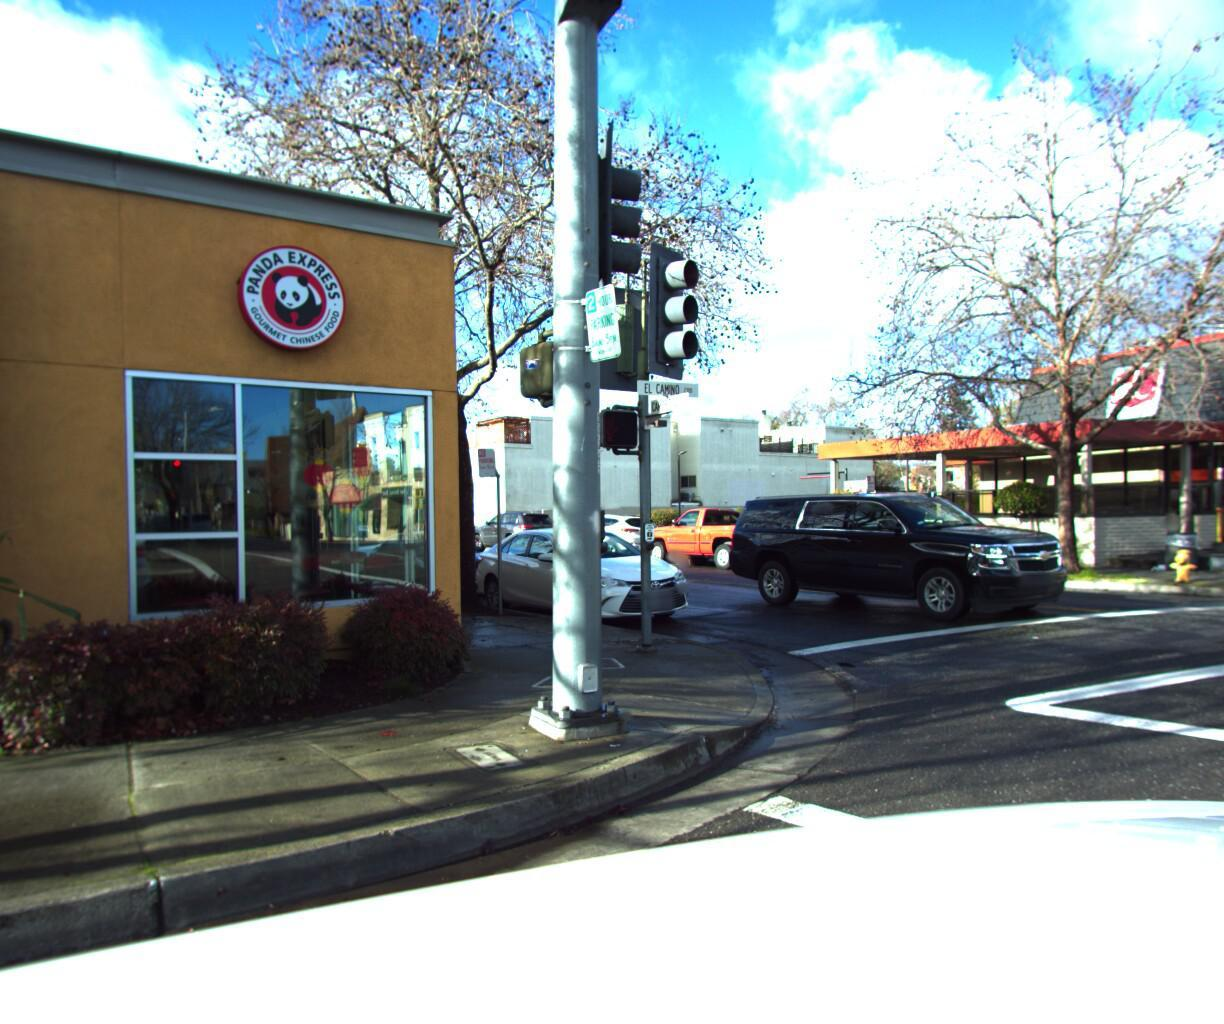car: (714, 485, 1102, 633), (466, 521, 713, 639), (363, 524, 521, 608), (639, 500, 808, 573), (561, 509, 673, 561), (469, 506, 571, 552)
